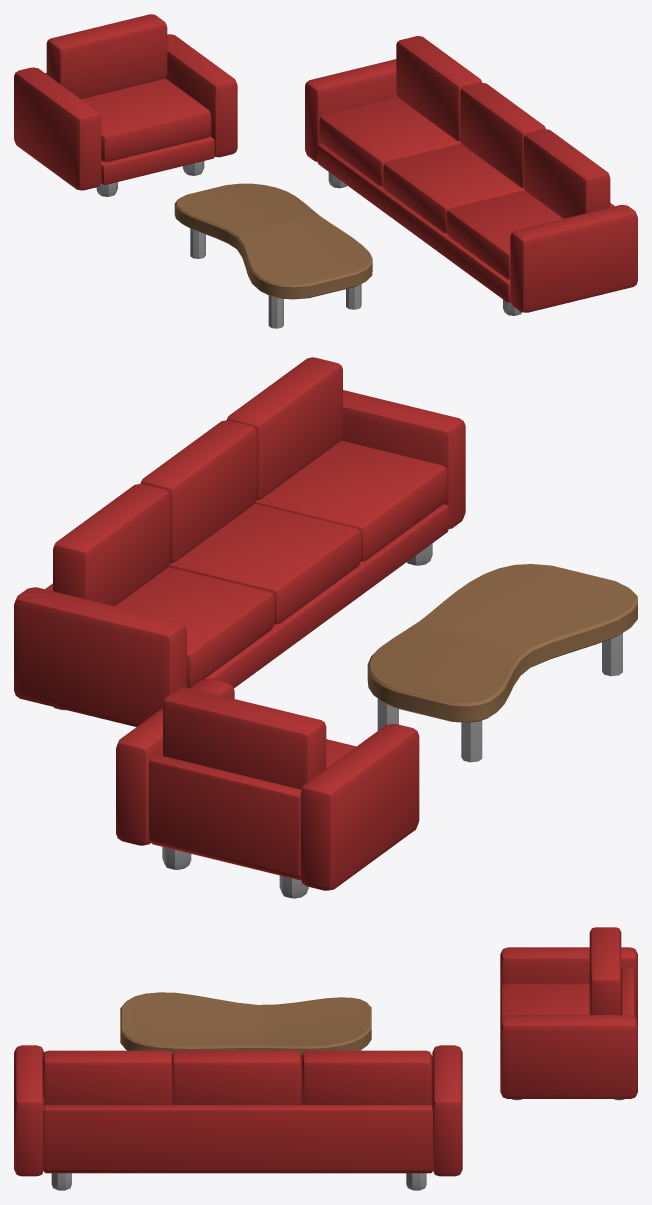
File: Sofa with table.fbx
The picture shows the model from 3 angles, top to bottom: view 1: azimuth 30°, elevation 25°; view 2: azimuth 150°, elevation 25°; view 3: azimuth 270°, elevation 25°; orthographic projection. The views are drawn at different scales.
Visible parts, largest first — view 1: Sofa with table; view 2: Sofa with table; view 3: Sofa with table.
Boxes of the visible parts, x1,y1,x2,y2 form: Sofa with table: [14, 14, 637, 328]; Sofa with table: [14, 357, 637, 898]; Sofa with table: [14, 927, 637, 1190].
Bounding box in the file's own units: 280 × 104 × 459.
